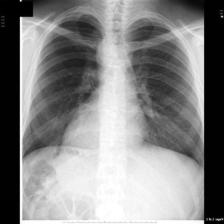tuberculosis: (20, 10, 205, 198)
